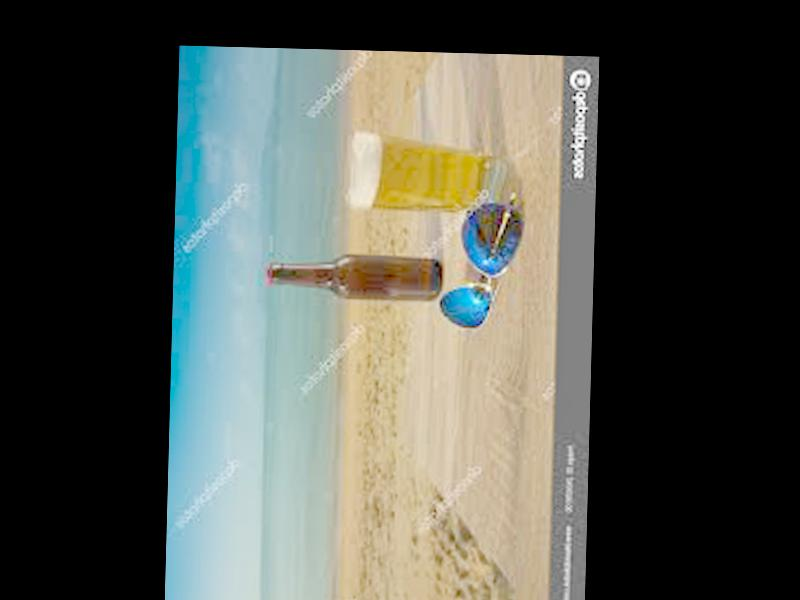Beer: (265, 252, 441, 302)
